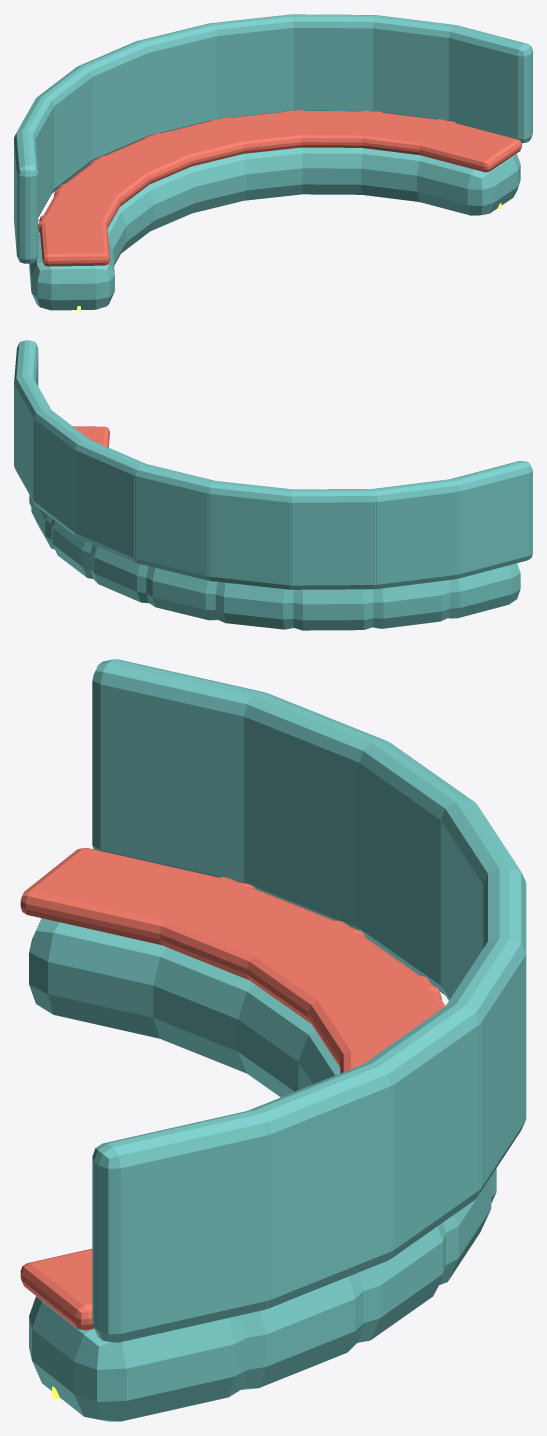
The model's file is cafe_booth.glb.
The picture shows the model from 3 angles, top to bottom: view 1: azimuth 30°, elevation 25°; view 2: azimuth 150°, elevation 25°; view 3: azimuth 270°, elevation 25°; orthographic projection. The views are drawn at different scales.
Parts seen in each view (by area): view 1: Cube.001; view 2: Cube.001; view 3: Cube.001.
Boxes of the visible parts, bbox=[...] form: Cube.001: bbox=[14, 14, 532, 311]; Cube.001: bbox=[14, 340, 532, 630]; Cube.001: bbox=[20, 659, 526, 1421].
Bounding box in the file's own units: 4.4 × 1.22 × 1.87.
